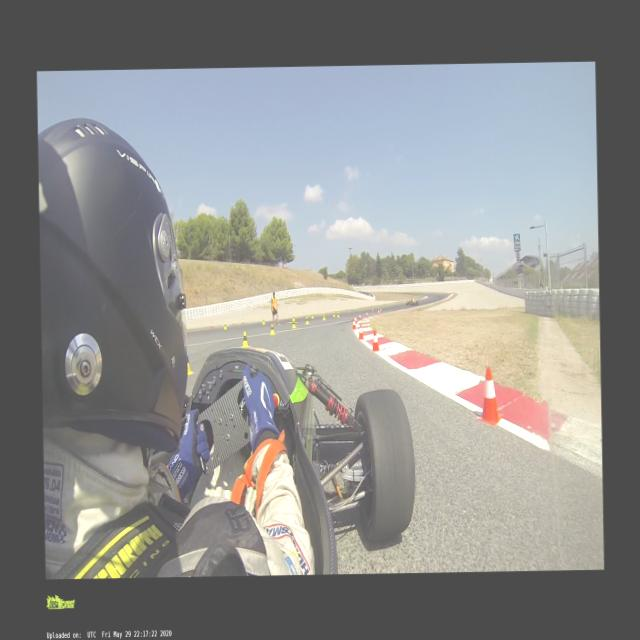orange_cone: (476, 366, 503, 424), (372, 330, 379, 350), (358, 322, 363, 340), (352, 318, 356, 330), (354, 314, 357, 324), (358, 312, 361, 320), (379, 308, 382, 314), (366, 310, 368, 317), (378, 308, 380, 315), (210, 322, 212, 328), (242, 318, 244, 324), (275, 315, 277, 320), (302, 312, 304, 317), (372, 307, 373, 312)
yellow_cone: (186, 353, 192, 374), (242, 331, 248, 347), (269, 324, 274, 334), (262, 318, 265, 324), (306, 316, 308, 324), (292, 320, 294, 328), (322, 313, 324, 320), (224, 322, 226, 329), (336, 311, 338, 317), (292, 315, 294, 321), (322, 312, 324, 318), (311, 313, 313, 318), (333, 312, 335, 316)
